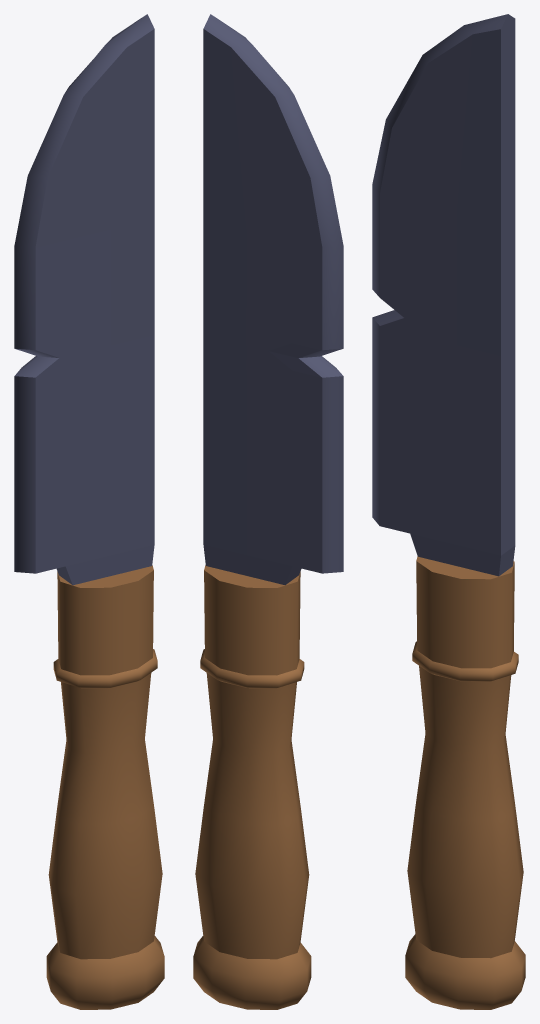
File: KitchenKnife.fbx
3 views of the same model, side by side, from view 1: azimuth 30°, elevation 25°; view 2: azimuth 150°, elevation 25°; view 3: azimuth 330°, elevation 25° (orthographic). The views are drawn at different scales.
Parts seen in each view (by area): view 1: KitchenKnife; view 2: KitchenKnife; view 3: KitchenKnife.
Part boxes in pixels (x1,y1,x2,y2): KitchenKnife: [14, 14, 164, 1009]; KitchenKnife: [193, 14, 343, 1009]; KitchenKnife: [372, 14, 525, 1009].
Bounding box in the file's own units: 12.92 × 82.57 × 7.29.
